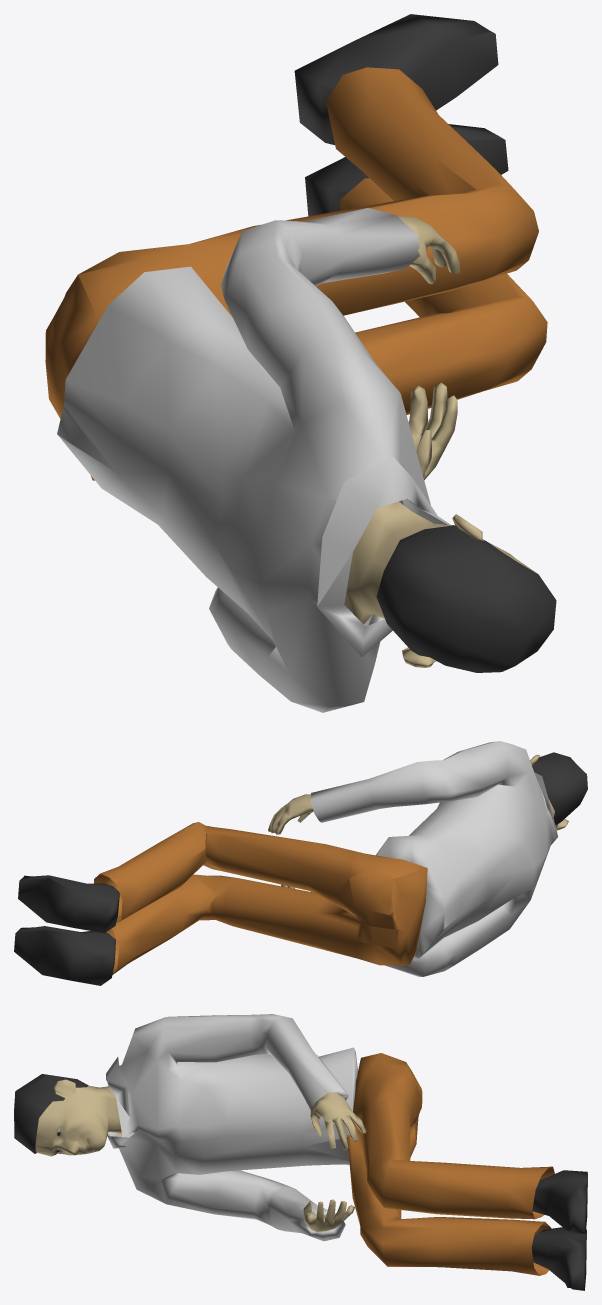
File: person_sitting.dae
3 views of the same model, one above another, from view 1: azimuth 30°, elevation 25°; view 2: azimuth 150°, elevation 25°; view 3: azimuth 270°, elevation 25° (orthographic). The views are drawn at different scales.
Visible parts, largest first — view 1: coords_ME_ID11_MA_Shape_003, coords_ME_ID39_MA_Shape_10, coords_ME_ID33_MA_Shape_9, coords_ME_ID47_MA_Shape_9, coords_ME_ID3_MA_Shape_8, coords_ME_ID19_MA_Shape_9, coords_ME_ID67_MA_Shape_8, coords_ME_ID27_MA_Shape_8; view 2: coords_ME_ID39_MA_Shape_10, coords_ME_ID11_MA_Shape_003, coords_ME_ID19_MA_Shape_9, coords_ME_ID47_MA_Shape_9, coords_ME_ID33_MA_Shape_9, coords_ME_ID27_MA_Shape_8; view 3: coords_ME_ID11_MA_Shape_003, coords_ME_ID39_MA_Shape_10, coords_ME_ID3_MA_Shape_8, coords_ME_ID47_MA_Shape_9, coords_ME_ID19_MA_Shape_9, coords_ME_ID33_MA_Shape_9, coords_ME_ID27_MA_Shape_8, coords_ME_ID67_MA_Shape_8.
Part boxes in pixels (<box>): coords_ME_ID11_MA_Shape_003: <box>57,208,450,712</box>; coords_ME_ID39_MA_Shape_10: <box>45,67,547,480</box>; coords_ME_ID33_MA_Shape_9: <box>376,525,556,672</box>; coords_ME_ID47_MA_Shape_9: <box>294,14,498,144</box>; coords_ME_ID3_MA_Shape_8: <box>344,501,537,667</box>; coords_ME_ID19_MA_Shape_9: <box>305,124,508,216</box>; coords_ME_ID67_MA_Shape_8: <box>408,382,457,479</box>; coords_ME_ID27_MA_Shape_8: <box>397,216,460,284</box>; coords_ME_ID39_MA_Shape_10: <box>94,822,427,974</box>; coords_ME_ID11_MA_Shape_003: <box>310,741,558,976</box>; coords_ME_ID19_MA_Shape_9: <box>14,926,115,985</box>; coords_ME_ID47_MA_Shape_9: <box>18,875,119,933</box>; coords_ME_ID33_MA_Shape_9: <box>532,752,587,825</box>; coords_ME_ID27_MA_Shape_8: <box>268,794,313,834</box>; coords_ME_ID11_MA_Shape_003: <box>106,1014,357,1241</box>; coords_ME_ID39_MA_Shape_10: <box>347,1053,554,1275</box>; coords_ME_ID3_MA_Shape_8: <box>35,1079,137,1156</box>; coords_ME_ID47_MA_Shape_9: <box>532,1170,587,1234</box>; coords_ME_ID19_MA_Shape_9: <box>531,1227,586,1290</box>; coords_ME_ID33_MA_Shape_9: <box>14,1074,88,1153</box>; coords_ME_ID27_MA_Shape_8: <box>310,1092,366,1149</box>; coords_ME_ID67_MA_Shape_8: <box>303,1199,354,1231</box>.
Size of the model in its own units: 11.25 by 6.99 by 16.76.
